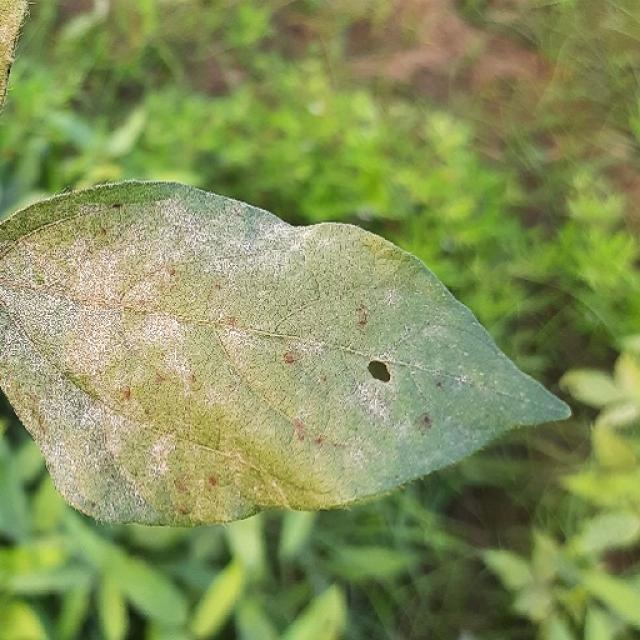Blackgram: (0, 181, 569, 522)
Powdery_Mildew: (220, 291, 440, 495), (8, 186, 300, 333), (105, 359, 246, 490), (350, 231, 507, 333), (9, 269, 131, 395), (435, 350, 571, 460), (156, 184, 292, 279), (42, 427, 166, 524), (302, 437, 452, 507), (279, 222, 403, 304), (250, 265, 365, 337), (39, 178, 227, 220), (154, 192, 269, 252), (32, 376, 111, 457), (361, 281, 428, 337), (82, 486, 158, 526), (357, 234, 413, 281), (232, 208, 267, 250)
